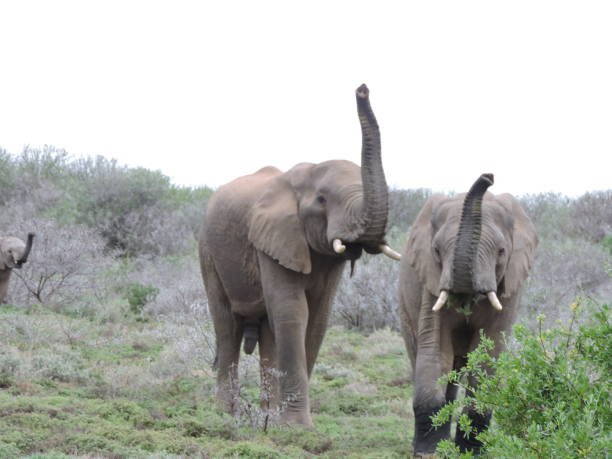africanelephant: (292, 152, 399, 275), (430, 202, 510, 317)
